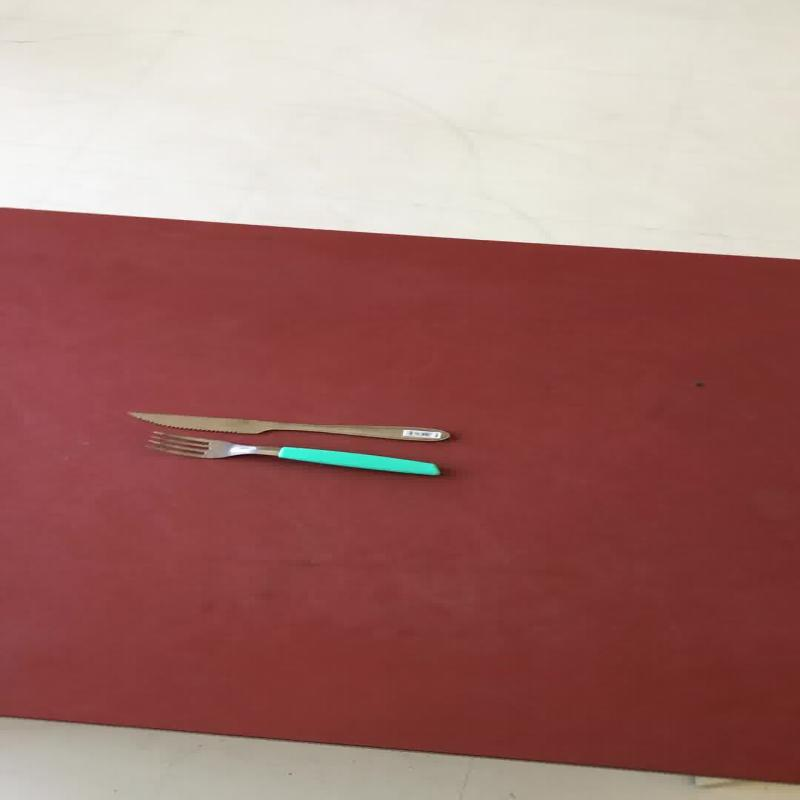fork: (142, 430, 440, 477)
knife: (124, 410, 451, 442)
